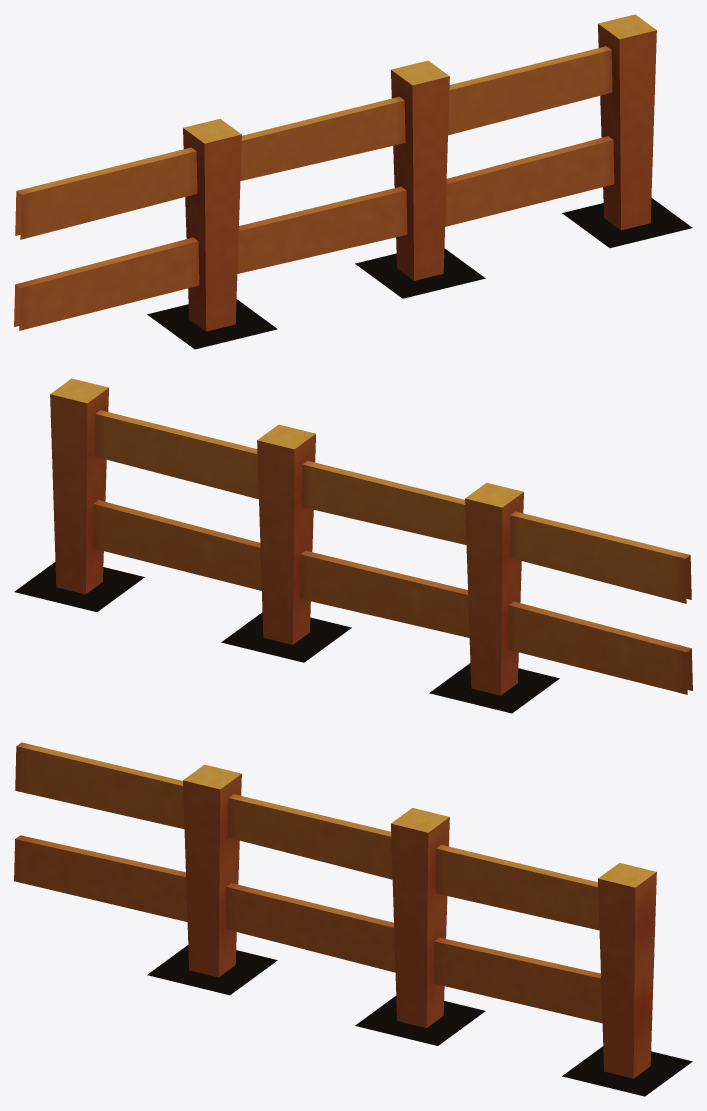
File: green_1x3_fence.FBX
3 views of the same model, one above another, from view 1: azimuth 30°, elevation 25°; view 2: azimuth 150°, elevation 25°; view 3: azimuth 330°, elevation 25° (orthographic).
Visible parts, largest first — view 1: green_1x3_fence, green_1x3_fence_soft_shadow; view 2: green_1x3_fence, green_1x3_fence_soft_shadow; view 3: green_1x3_fence, green_1x3_fence_soft_shadow.
Boxes of the visible parts, bbox=[...] form: green_1x3_fence: bbox=[14, 14, 656, 331]; green_1x3_fence_soft_shadow: bbox=[147, 198, 692, 349]; green_1x3_fence: bbox=[50, 378, 692, 695]; green_1x3_fence_soft_shadow: bbox=[14, 562, 559, 713]; green_1x3_fence: bbox=[14, 742, 656, 1078]; green_1x3_fence_soft_shadow: bbox=[147, 945, 692, 1096].
Bounding box in the file's own units: 3137 × 920 × 400.
